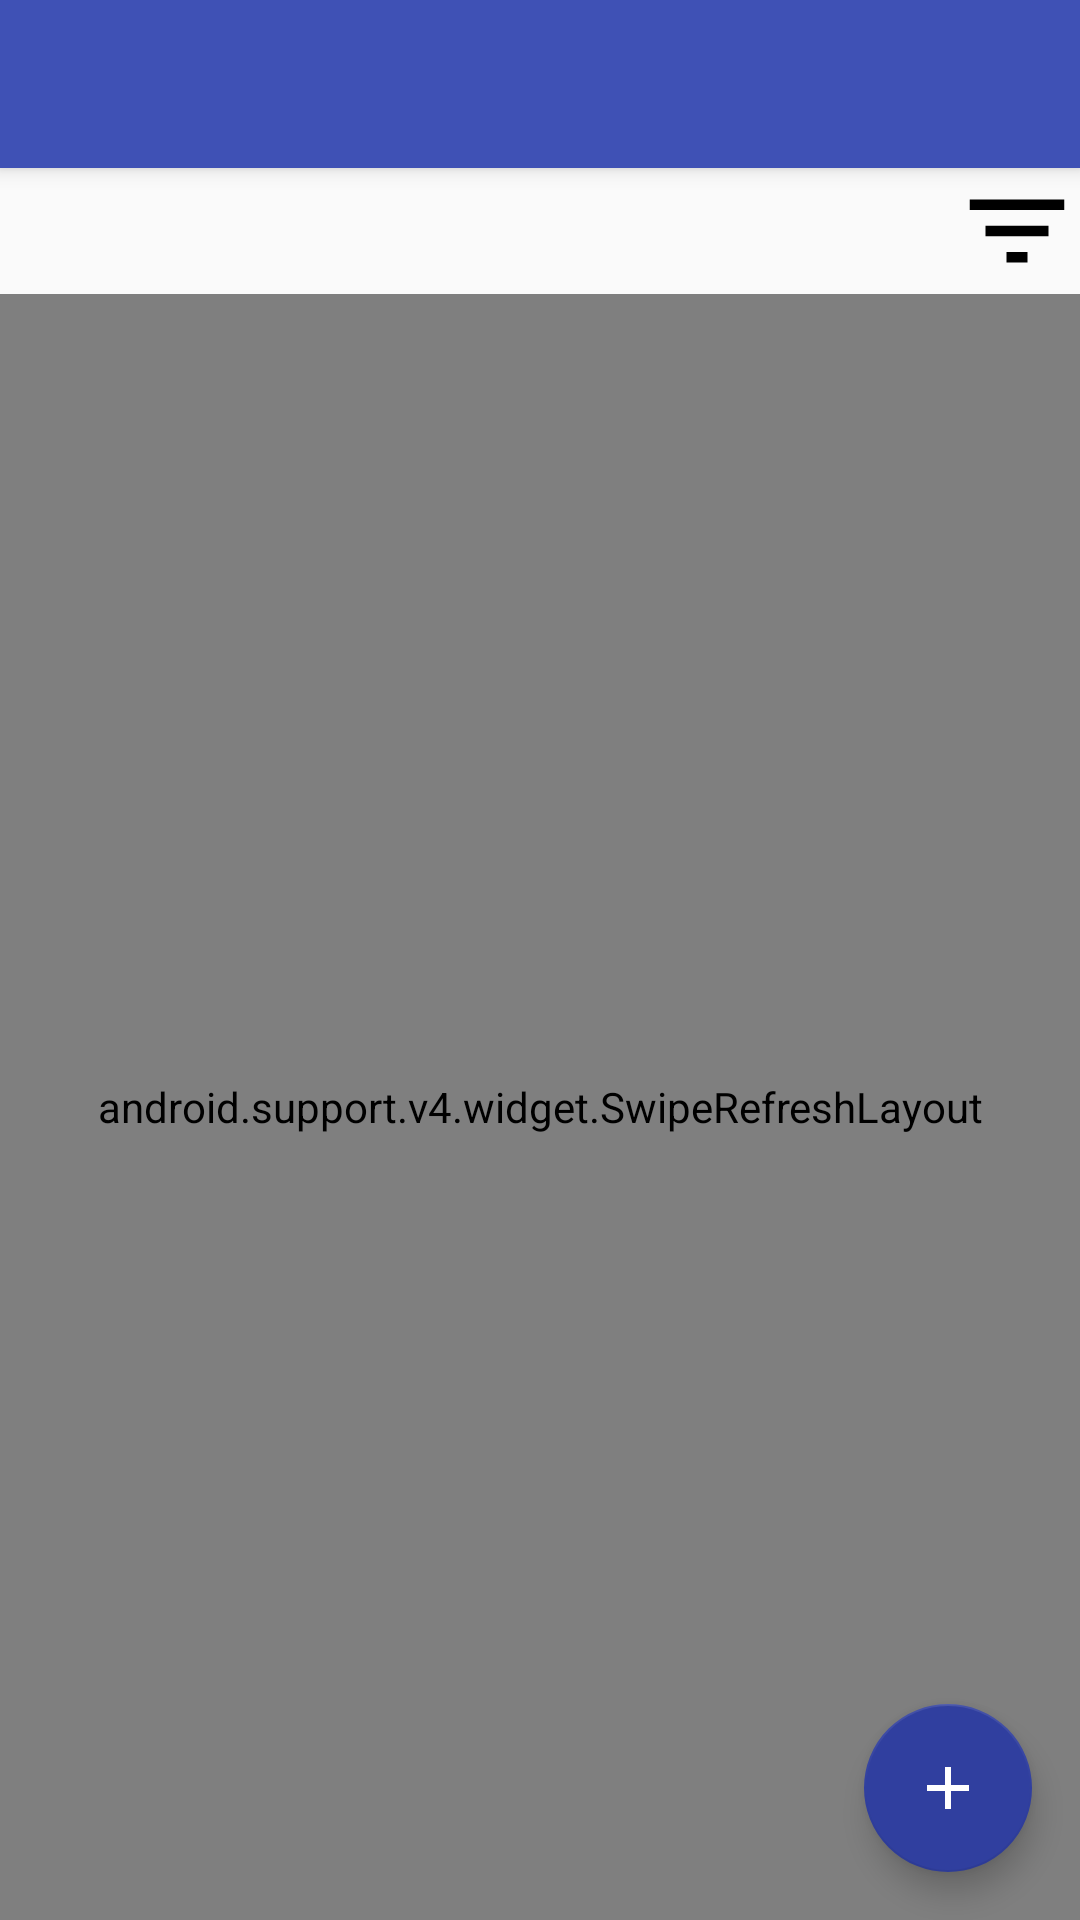

Named icons in this screenshot (1080x1920) and their centers, (x=x, y=y):
add: (x=948, y=1788)
filter list: (x=1017, y=231)
